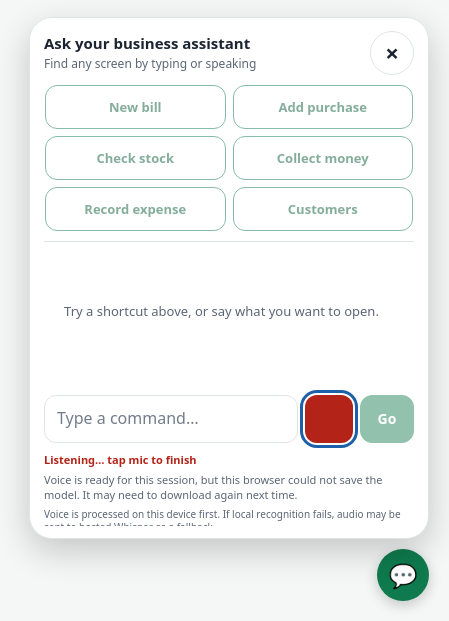
Test: does not execute a voice command if the assistant is closed during final transcription
Earlier steps of the test are not shown.
Expected: the text "Listening… tap mic to finish" is shown, x1=44 y1=452 x2=197 y2=467
Click the button named "Stop voice command" at (329, 419), box x1=305 y1=395 x2=353 y2=443
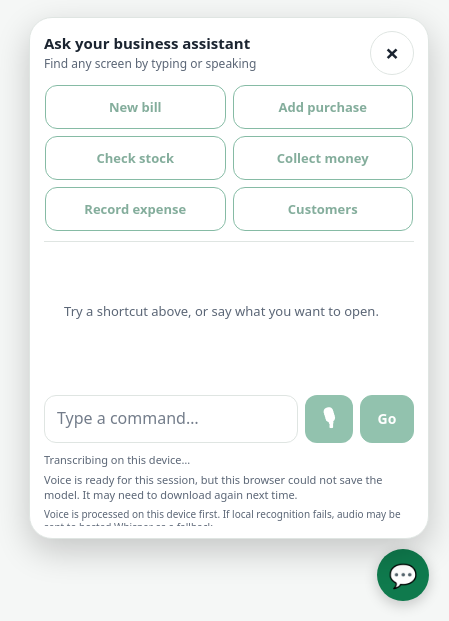
Click the button named "Close assistant" at (403, 575), box x1=377 y1=549 x2=429 y2=601
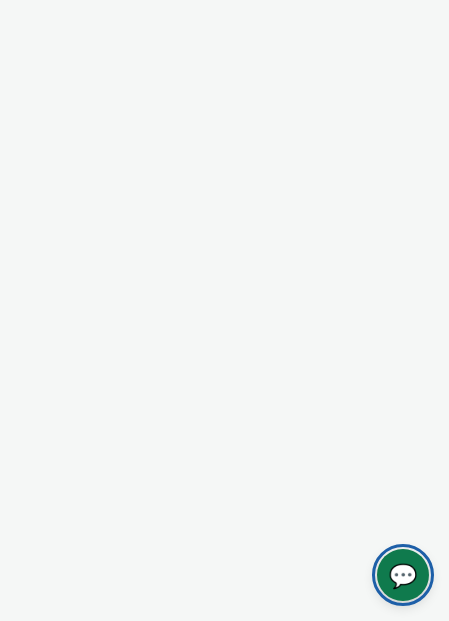
Expected: the button named "Open assistant" is shown, x1=377 y1=549 x2=429 y2=601
